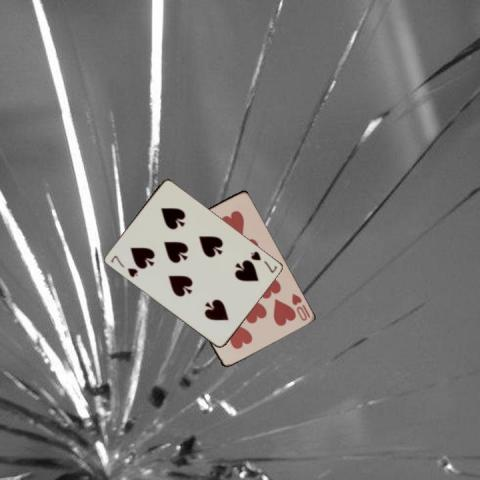10h: (289, 290, 311, 322)
7s: (107, 252, 139, 279), (247, 248, 278, 275)
